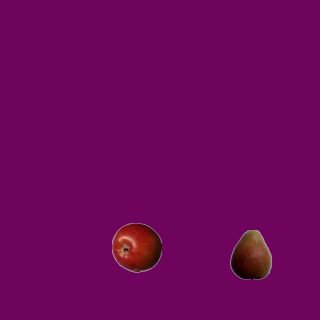Apple Braeburn: (111, 222, 161, 272)
Pear Forelle: (225, 229, 275, 279)
